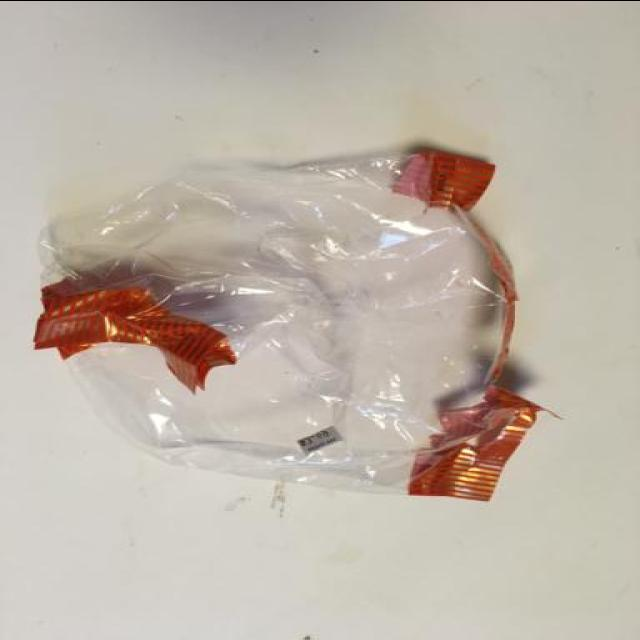non-organik: (25, 129, 573, 513)
